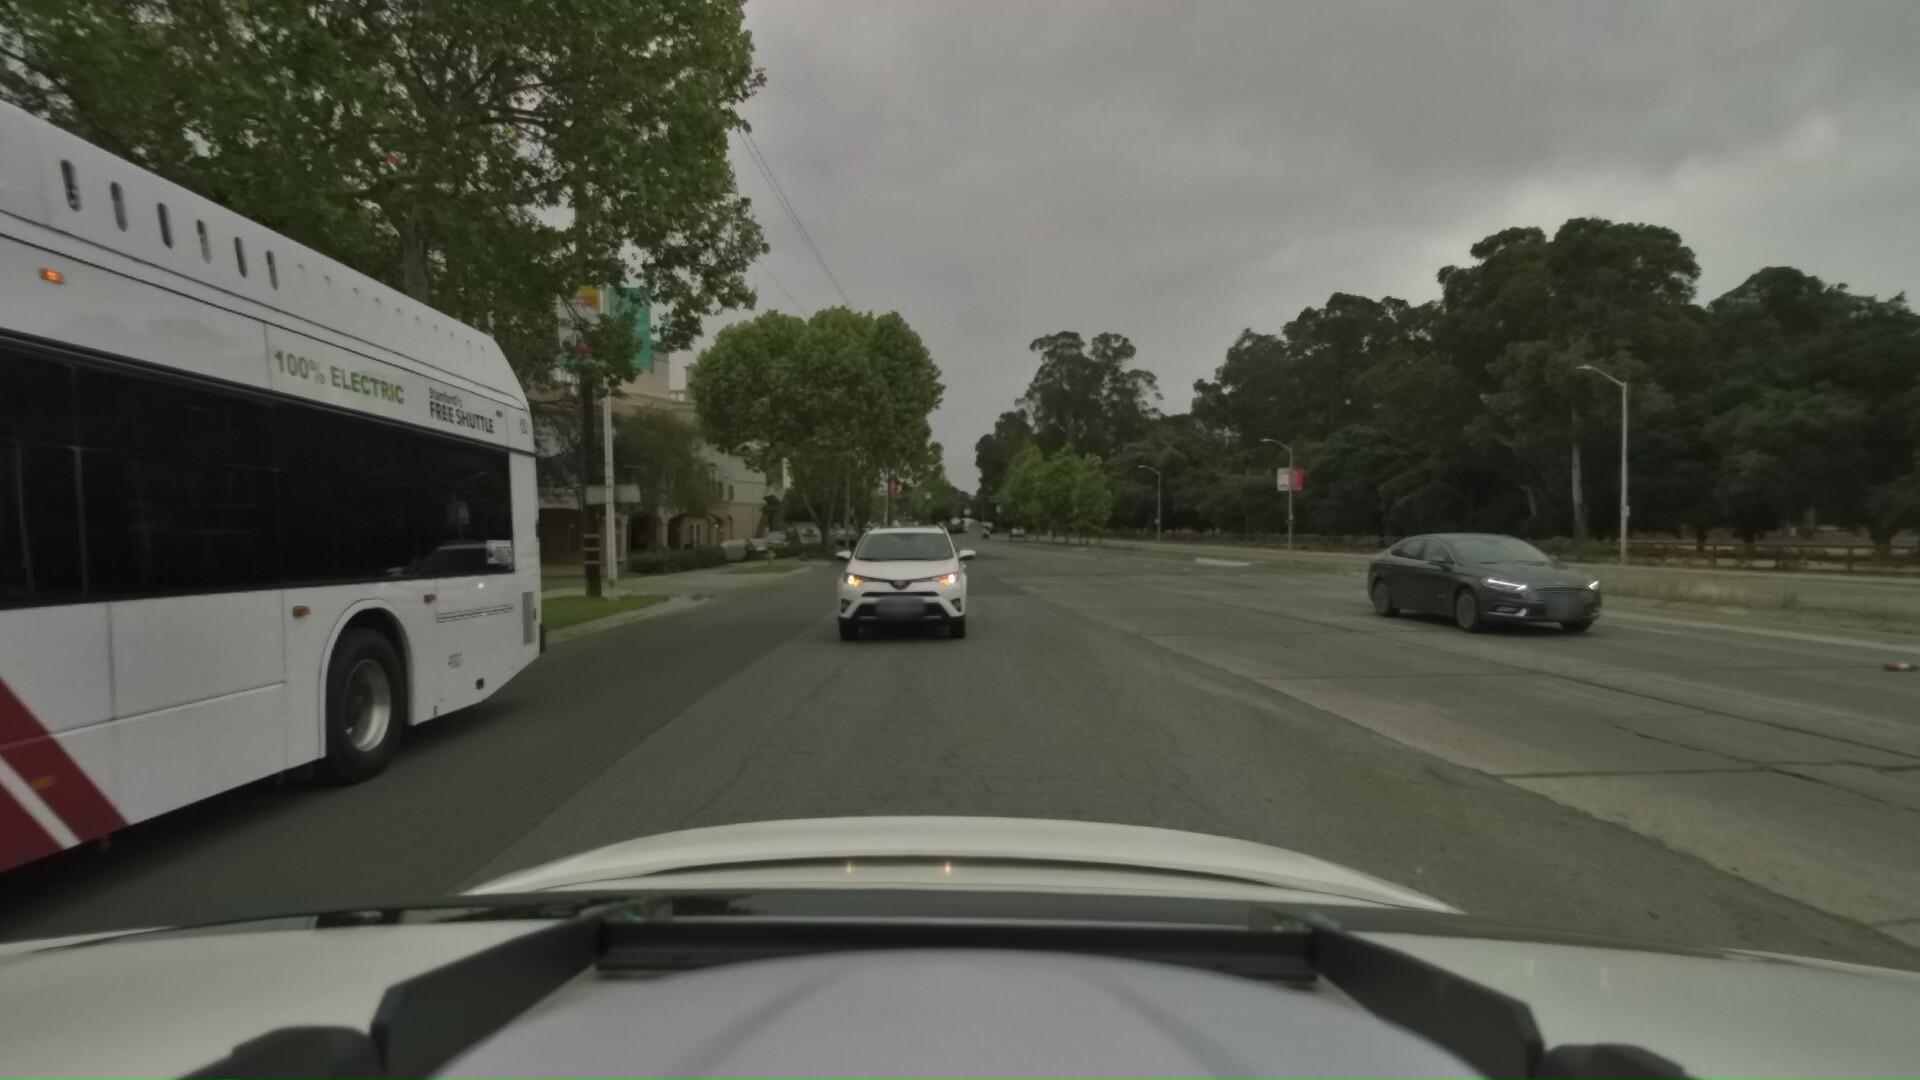car: (1317, 520, 1568, 628), (822, 512, 986, 650), (757, 524, 804, 554), (713, 531, 764, 556)
